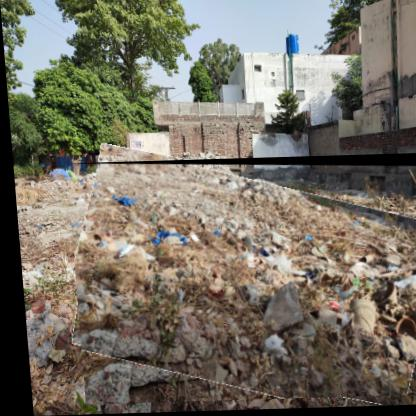Garbage: (64, 156, 416, 407)
